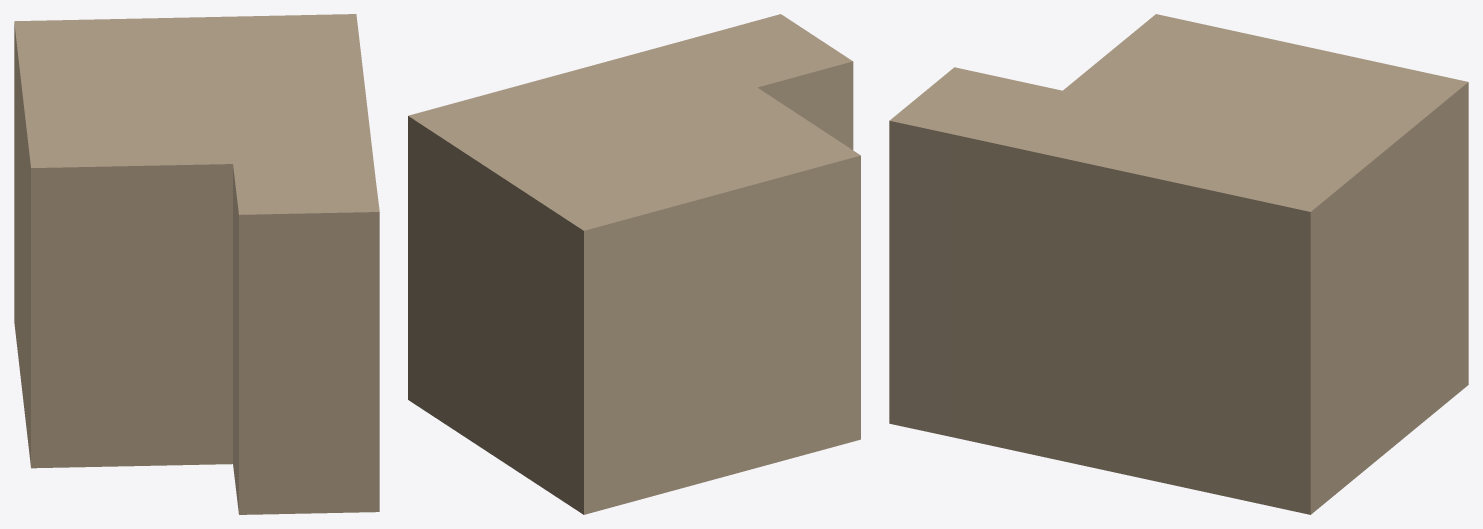
The model's file is bld_99020358.dae.
3 renders of one model, left to right at view 1: azimuth 30°, elevation 25°; view 2: azimuth 150°, elevation 25°; view 3: azimuth 270°, elevation 25°, orthographic. The views are drawn at different scales.
Parts seen in each view (by area): view 1: bld_99020358; view 2: bld_99020358; view 3: bld_99020358.
Part boxes in pixels (x1=…): bld_99020358: x1=14, y1=14, x2=379, y2=514; bld_99020358: x1=408, y1=14, x2=860, y2=514; bld_99020358: x1=889, y1=14, x2=1468, y2=514.
Bounding box in the file's own units: 11.21 × 13.86 × 8.
